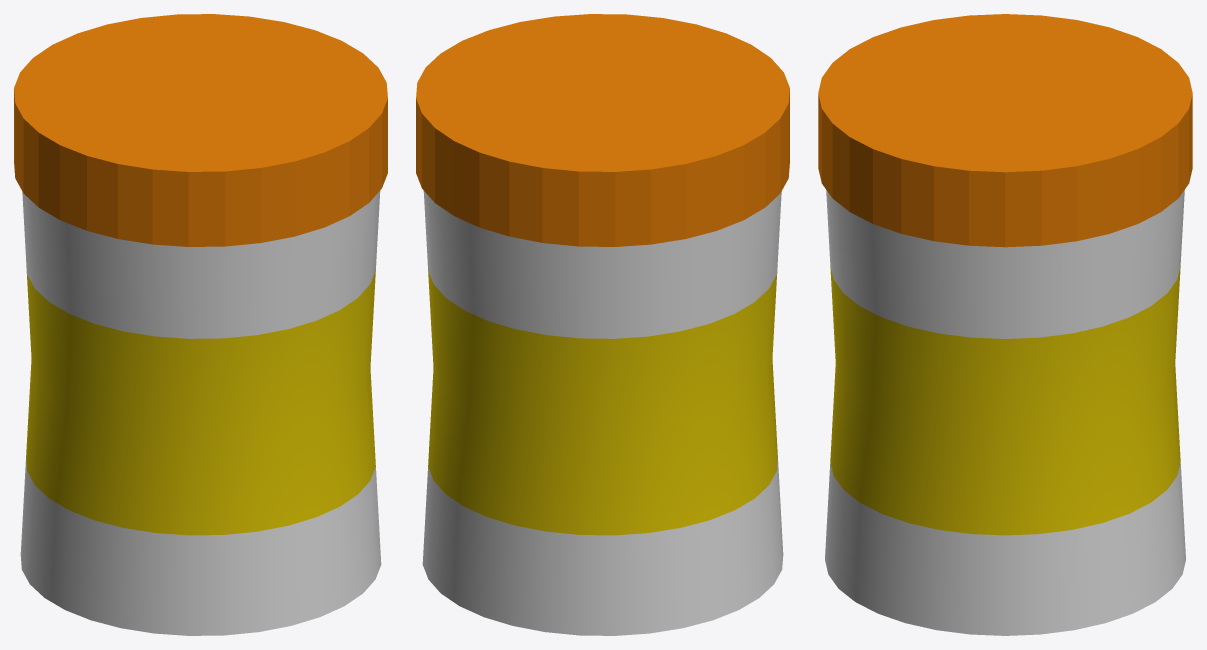
File: pills 1.fbx
3 views of the same model, side by side, from view 1: azimuth 30°, elevation 25°; view 2: azimuth 150°, elevation 25°; view 3: azimuth 270°, elevation 25° (orthographic).
Visible parts, largest first — view 1: Cylinder; view 2: Cylinder; view 3: Cylinder.
Part boxes in pixels (x1,y1,x2,y2): Cylinder: (14, 14, 387, 635); Cylinder: (416, 14, 789, 635); Cylinder: (818, 14, 1192, 635).
Size of the model in its own units: 207 by 285 by 207.
